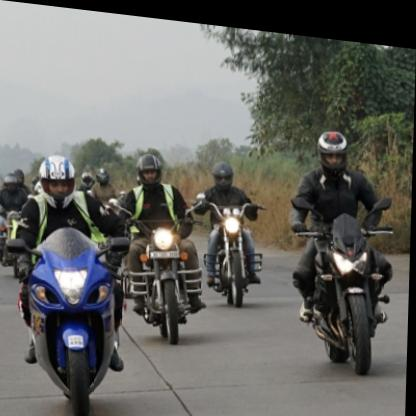With Helmet: (35, 152, 83, 209), (314, 122, 353, 169), (135, 148, 165, 183)
